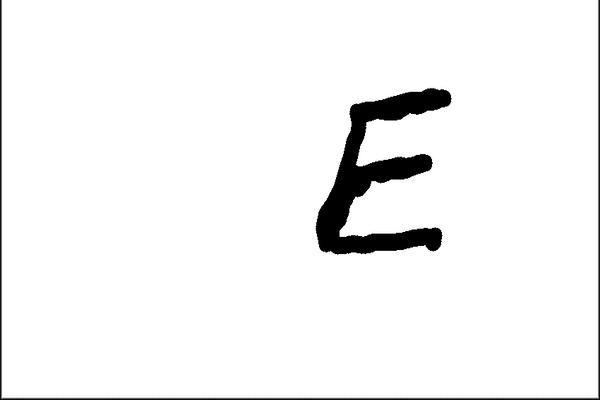E: (310, 82, 453, 257)
